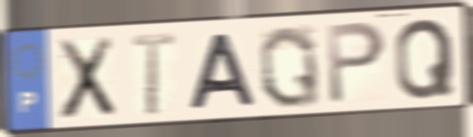A: (186, 31, 260, 112)
P: (324, 19, 389, 108)
Q: (256, 22, 323, 111), (393, 15, 458, 102)
T: (128, 30, 179, 119)
X: (54, 34, 118, 124)
